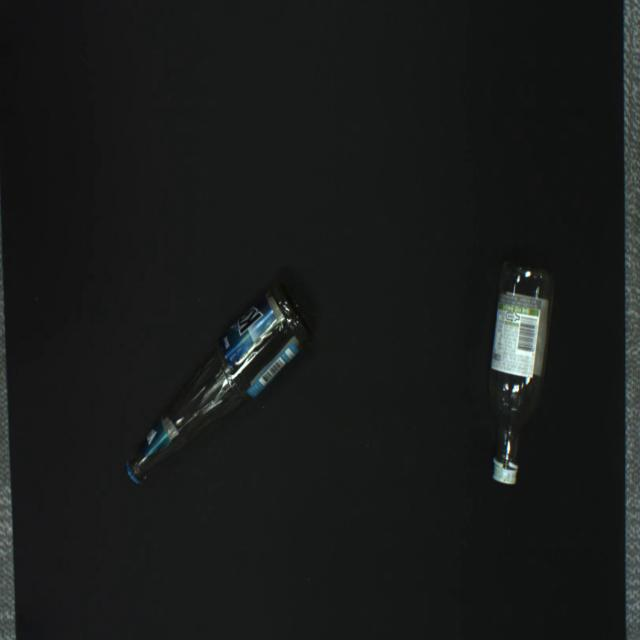beer-bottle: (126, 281, 310, 484)
soju-bottle: (488, 262, 555, 484)
